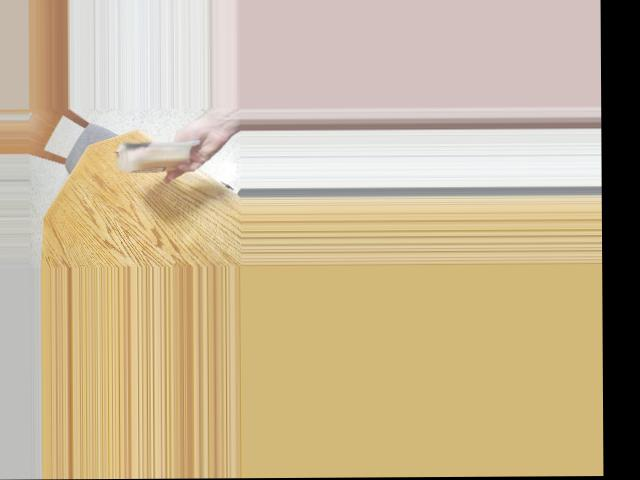cheese: (121, 125, 195, 175)
